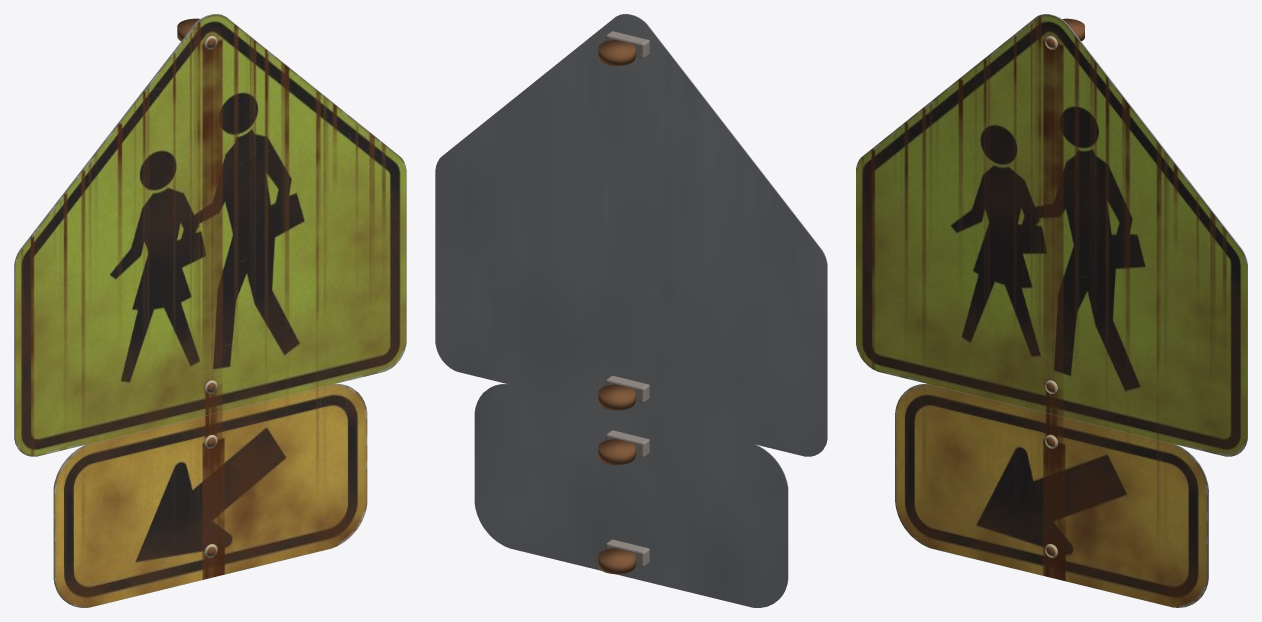
File: school-v1-rusty.glb
3 renders of one model, left to right at view 1: azimuth 30°, elevation 25°; view 2: azimuth 150°, elevation 25°; view 3: azimuth 330°, elevation 25°, orthographic.
Visible parts, largest first — view 1: school-v1-rusty; view 2: school-v1-rusty; view 3: school-v1-rusty.
Part boxes in pixels (bbox=[...]): school-v1-rusty: bbox=[14, 14, 406, 607]; school-v1-rusty: bbox=[435, 14, 827, 607]; school-v1-rusty: bbox=[856, 14, 1247, 607].
Size of the model in its own units: 0.762 by 1.05 by 0.0871.
1 material, 1 textured.
